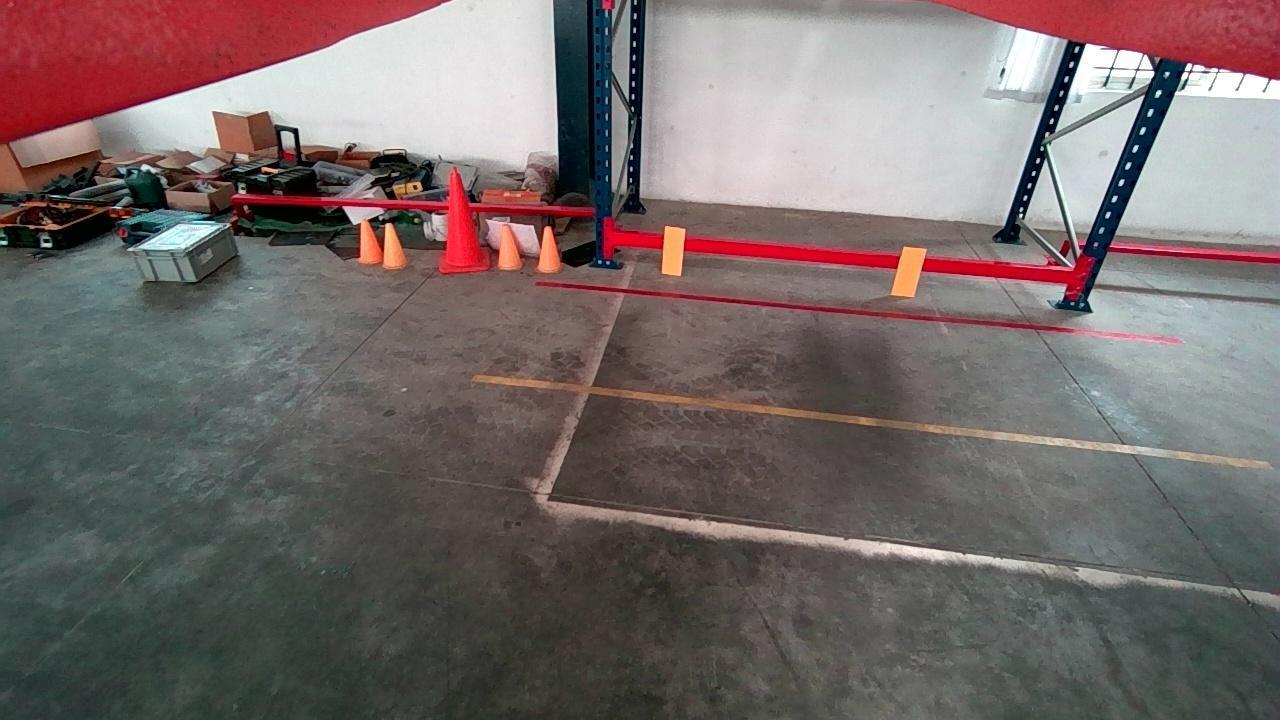h_rack: (613, 232, 1080, 285)
orange_strip: (890, 244, 926, 296), (662, 225, 686, 274)
red_line: (536, 276, 1186, 346)
yellow_line: (475, 374, 1271, 473)
